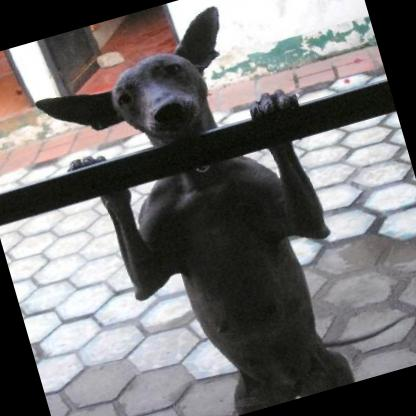Mexican_hairless: (17, 0, 383, 416)
